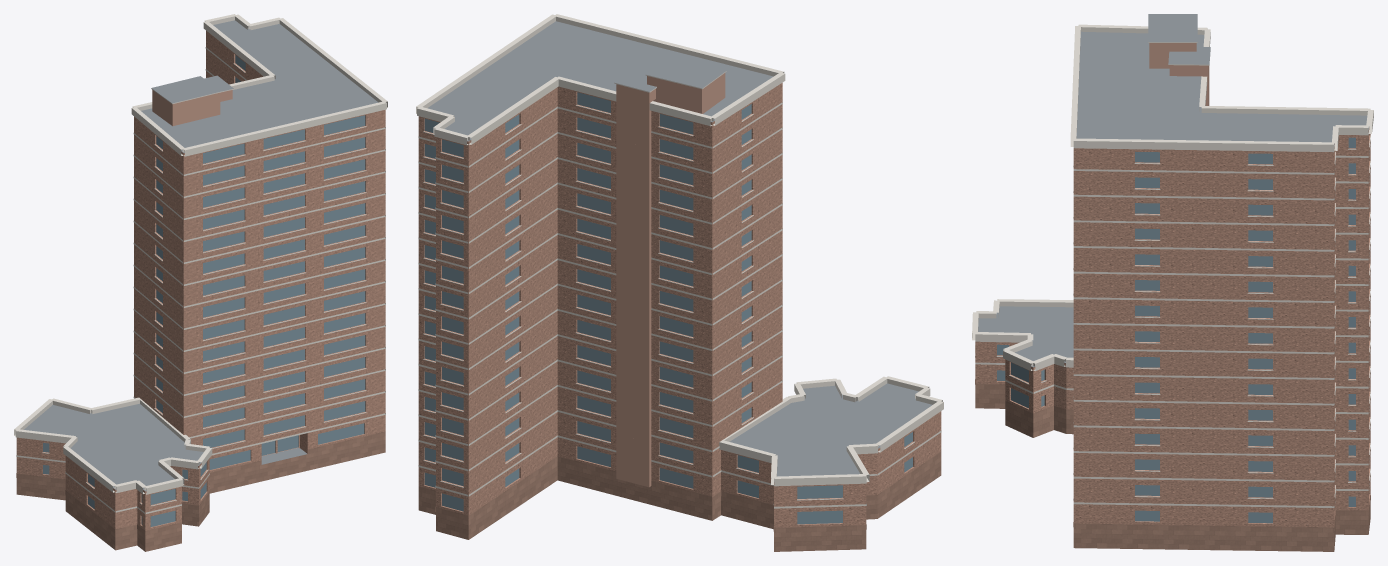
3 views of the same model, side by side, from view 1: azimuth 30°, elevation 25°; view 2: azimuth 150°, elevation 25°; view 3: azimuth 270°, elevation 25° (orthographic). The views are drawn at different scales.
Visible parts, largest first — view 1: mirGwanW6__wall, mirGwanW6__glass, mirGwanW6__roof, mirGwanW6__trim, mirGwanW6__base, mirGwanW6__wall2; view 2: mirGwanW6__wall, mirGwanW6__trim, mirGwanW6__glass, mirGwanW6__roof, mirGwanW6__wall2, mirGwanW6__base; view 3: mirGwanW6__wall, mirGwanW6__trim, mirGwanW6__roof, mirGwanW6__glass, mirGwanW6__base, mirGwanW6__wall2.
Boxes of the visible parts, x1,y1,x2,y2 form: mirGwanW6__wall: (16,30,385,534); mirGwanW6__glass: (43,55,365,526); mirGwanW6__roof: (24,20,378,491); mirGwanW6__trim: (14,14,387,513); mirGwanW6__base: (16,431,385,551); mirGwanW6__wall2: (152,90,232,126); mirGwanW6__wall: (418,83,941,527); mirGwanW6__trim: (416,14,943,508); mirGwanW6__glass: (424,92,912,524); mirGwanW6__roof: (427,21,932,481); mirGwanW6__wall2: (616,73,725,487); mirGwanW6__base: (418,451,941,551); mirGwanW6__wall: (975,127,1370,530); mirGwanW6__trim: (972,24,1373,507); mirGwanW6__roof: (978,14,1368,367); mirGwanW6__glass: (997,137,1355,523); mirGwanW6__base: (975,379,1370,551); mirGwanW6__wall2: (1149,43,1209,105).
Bounding box in the file's own units: 51.95 × 55.5 × 46.89.
Materials: 8 (2 with a texture image).
